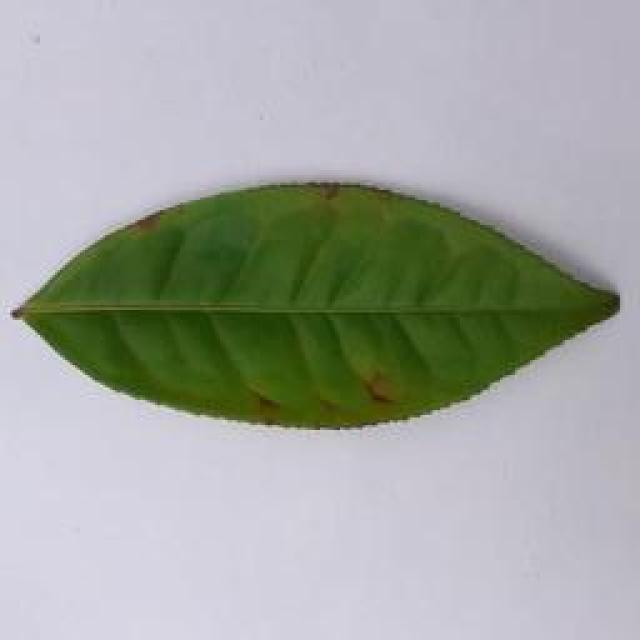Red Leaf Spot: (10, 166, 640, 436)
